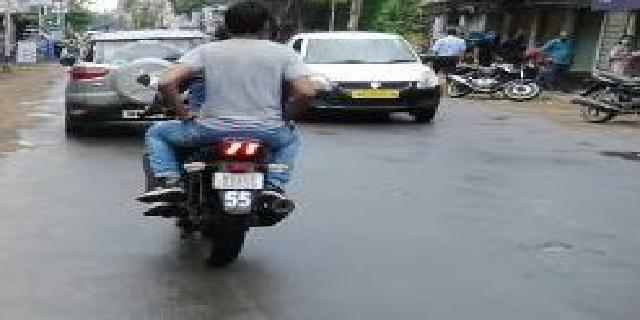Car: (58, 16, 214, 145), (294, 25, 456, 135)
Motorbike: (179, 4, 316, 268)
